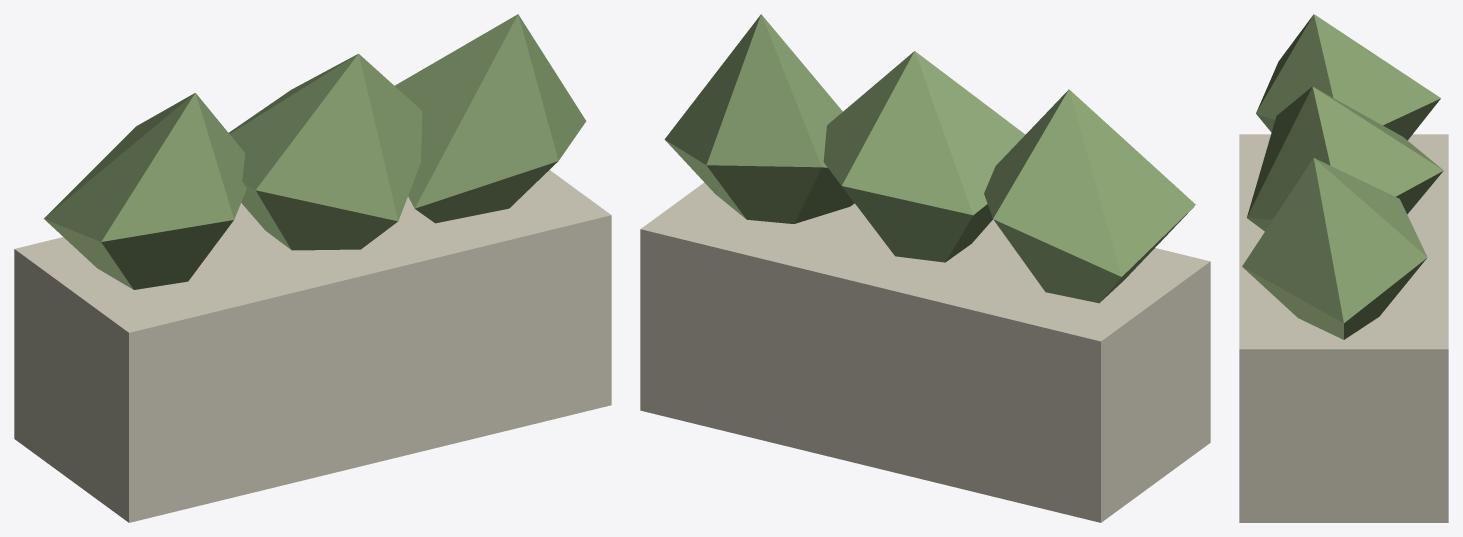
3 renders of one model, left to right at view 1: azimuth 30°, elevation 25°; view 2: azimuth 150°, elevation 25°; view 3: azimuth 270°, elevation 25°, orthographic. The views are drawn at different scales.
Bounding box in the file's own units: 1.84 × 1.26 × 0.7.
